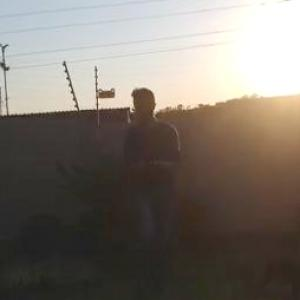follow: (114, 81, 186, 299)
